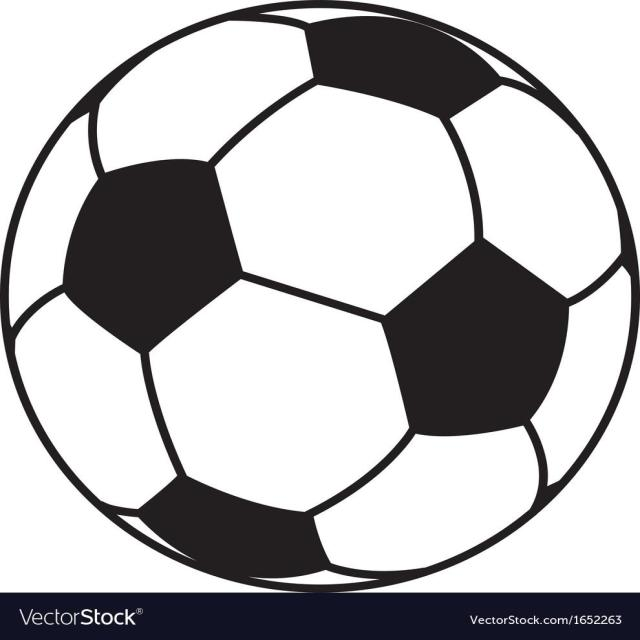Soccer Ball: (0, 2, 634, 587)
